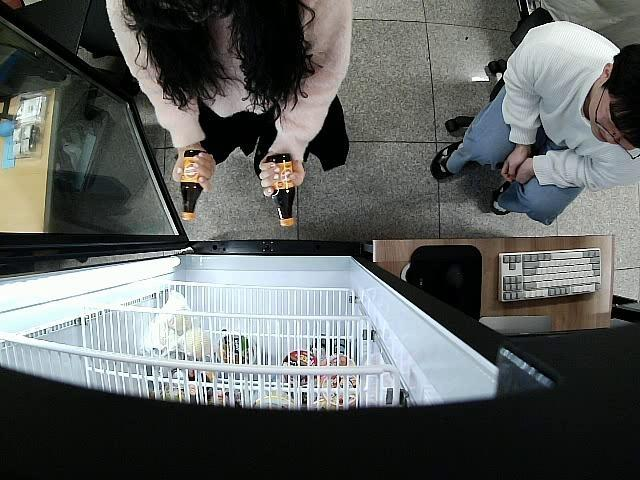17_vita500: (264, 154, 298, 226), (181, 148, 205, 222)
